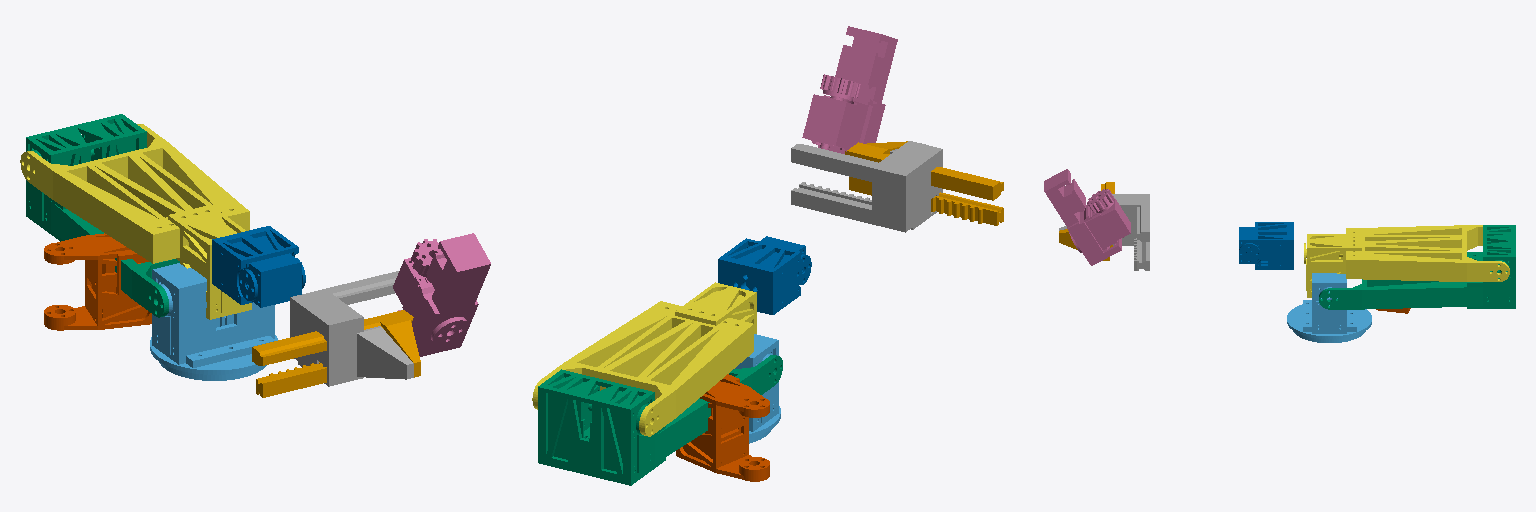
robot.urdf — markII.2:
<?xml version='1.0' encoding='utf-8'?>
<robot name="markII.2">
    <link name="base_link">
        <inertial>
            <origin xyz="0.035458480343119846 -6.348038499793762e-05 0.04884264658749845" rpy="0.0 0.0 0.0" />
            <mass value="0.39602545916549503" />
            <inertia ixx="0.0008760560529699657" iyy="0.0006208810412874053" izz="0.0008639242629666616" ixy="-3.769413947208682e-08" iyz="4.586236426702315e-07" ixz="3.627291135214919e-05" />
        </inertial>
        <visual name="base_link_visual">
            <origin xyz="0.0 0.0 0.0" rpy="0.0 0.0 0.0" />
            <geometry>
                <mesh filename="meshes/base_link.stl" scale="0.001 0.001 0.001" />
            </geometry>
        </visual>
        <collision name="base_link_collision">
            <origin xyz="0.0 0.0 0.0" rpy="0.0 0.0 0.0" />
            <geometry>
                <mesh filename="meshes/base_link.stl" scale="0.001 0.001 0.001" />
            </geometry>
        </collision>
    </link>
    <link name="link1">
        <inertial>
            <origin xyz="-0.0002704347594735834 5.857332049775781e-07 -0.018858068132557672" rpy="0.0 -0.0 0.0" />
            <mass value="0.1693636602695217" />
            <inertia ixx="9.137448780848672e-05" iyy="0.0001313693617072285" izz="9.559017464710466e-05" ixy="2.720487576872225e-09" iyz="-1.3245744038131203e-09" ixz="-4.5903464359968467e-07" />
        </inertial>
        <visual name="link1_visual">
            <origin xyz="9.999929548684338e-05 0.03250000019207488 0.09200000000000054" rpy="-3.1415926535897687 -7.208216521456998e-29 -1.5707963267948966" />
            <geometry>
                <mesh filename="meshes/link1.stl" scale="0.001 0.001 0.001" />
            </geometry>
        </visual>
        <collision name="link1_collision">
            <origin xyz="9.999929548684338e-05 0.03250000019207488 0.09200000000000054" rpy="-3.1415926535897687 -7.208216521456998e-29 -1.5707963267948966" />
            <geometry>
                <mesh filename="meshes/link1.stl" scale="0.001 0.001 0.001" />
            </geometry>
        </collision>
    </link>
    <link name="link2">
        <inertial>
            <origin xyz="0.03760000011651115 0.0059319951687325555 -0.11925732977137538" rpy="7.88860905221012e-31 3.421138828918011e-49 -2.430865342914509e-63" />
            <mass value="1.7169294249777958" />
            <inertia ixx="0.0038562699005716536" iyy="0.0045067967357157665" izz="0.001231930246496139" ixy="1.5872719391665013e-16" iyz="0.00039574878190694356" ixz="7.6805583598243e-10" />
        </inertial>
        <visual name="link2_visual">
            <origin xyz="0.055865511020663394 -0.05559347310728084 0.17090147772739467" rpy="-3.1415926535897745 4.634311136164061e-15 -1.5707963267949183" />
            <geometry>
                <mesh filename="meshes/link2.stl" scale="0.001 0.001 0.001" />
            </geometry>
        </visual>
        <collision name="link2_collision">
            <origin xyz="0.055865511020663394 -0.05559347310728084 0.17090147772739467" rpy="-3.1415926535897745 4.634311136164061e-15 -1.5707963267949183" />
            <geometry>
                <mesh filename="meshes/link2.stl" scale="0.001 0.001 0.001" />
            </geometry>
        </collision>
    </link>
    <link name="link3">
        <inertial>
            <origin xyz="0.03760663634504249 -0.0067660939590704315 -0.1156116487266119" rpy="-8.758115402030109e-47 -0.0 0.0" />
            <mass value="1.4797144091482912" />
            <inertia ixx="0.0038309475265955314" iyy="0.004170136098854015" izz="0.0009512994358775587" ixy="1.5677658128827873e-07" iyz="-0.00047433748121382917" ixz="2.834555275750896e-07" />
        </inertial>
        <visual name="link3_visual">
            <origin xyz="0.01933448921196167 0.05559347362881816 0.1709014775759369" rpy="3.1415926535897922 4.708572433932446e-16 1.5707963267949163" />
            <geometry>
                <mesh filename="meshes/link3.stl" scale="0.001 0.001 0.001" />
            </geometry>
        </visual>
        <collision name="link3_collision">
            <origin xyz="0.01933448921196167 0.05559347362881816 0.1709014775759369" rpy="3.1415926535897922 4.708572433932446e-16 1.5707963267949163" />
            <geometry>
                <mesh filename="meshes/link3.stl" scale="0.001 0.001 0.001" />
            </geometry>
        </collision>
    </link>
    <link name="link4">
        <inertial>
            <origin xyz="-0.0006856444864441169 -0.025856823701627906 -2.6584211688884806e-07" rpy="0.0 -0.0 0.0" />
            <mass value="0.39283773638319275" />
            <inertia ixx="0.00010941578075797723" iyy="7.347508926037853e-05" izz="0.0001325327378877909" ixy="-1.7442449312230109e-06" iyz="-7.706476429498124e-11" ixz="1.5926628388861376e-09" />
        </inertial>
        <visual name="link4_visual">
            <origin xyz="-0.014999999876619503 -0.07860000031563046 0.03729999895692" rpy="-1.5707963267949088 1.5707963267948775 0" />
            <geometry>
                <mesh filename="meshes/link4.stl" scale="0.001 0.001 0.001" />
            </geometry>
        </visual>
        <collision name="link4_collision">
            <origin xyz="-0.014999999876619503 -0.07860000031563046 0.03729999895692" rpy="-1.5707963267949088 1.5707963267948775 0" />
            <geometry>
                <mesh filename="meshes/link4.stl" scale="0.001 0.001 0.001" />
            </geometry>
        </collision>
    </link>
    <link name="link5">
        <inertial>
            <origin xyz="-0.01204269022263127 4.2064875323539755e-05 0.039175653835811335" rpy="0.0 -0.0 0.0" />
            <mass value="0.608125068740914" />
            <inertia ixx="0.00021837053677050897" iyy="0.0003469179926686751" izz="0.00024081655085987988" ixy="-7.322055258983418e-09" iyz="-6.787604473096183e-08" ixz="9.749665809387996e-06" />
        </inertial>
        <visual name="link5_visual">
            <origin xyz="-0.056699999876626564 -0.03725478487650168 -0.06389999968436498" rpy="7.746581154322007e-14 -4.565358189137846e-16 1.5707963267948781" />
            <geometry>
                <mesh filename="meshes/link5.stl" scale="0.001 0.001 0.001" />
            </geometry>
        </visual>
        <collision name="link5_collision">
            <origin xyz="-0.056699999876626564 -0.03725478487650168 -0.06389999968436498" rpy="7.746581154322007e-14 -4.565358189137846e-16 1.5707963267948781" />
            <geometry>
                <mesh filename="meshes/link5.stl" scale="0.001 0.001 0.001" />
            </geometry>
        </collision>
    </link>
    <link name="link6">
        <inertial>
            <origin xyz="0.0006080068808218275 -0.024943614181073548 0.0228980159158138" rpy="0.0 -0.0 0.0" />
            <mass value="0.4063892862705231" />
            <inertia ixx="0.0009949238078908428" iyy="0.0009620882125333137" izz="0.0001293739180438374" ixy="-6.205679234966456e-07" iyz="-8.383963299279892e-05" ixz="-1.1902565677070848e-06" />
        </inertial>
        <visual name="link6_visual">
            <origin xyz="0.0006500001233803765 -0.033158311578043026 0.07161508819313206" rpy="2.0943950946213787 2.3888183975531057e-14 -2.029786426337192e-14" />
            <geometry>
                <mesh filename="meshes/link6.stl" scale="0.001 0.001 0.001" />
            </geometry>
        </visual>
        <collision name="link6_collision">
            <origin xyz="0.0006500001233803765 -0.033158311578043026 0.07161508819313206" rpy="2.0943950946213787 2.3888183975531057e-14 -2.029786426337192e-14" />
            <geometry>
                <mesh filename="meshes/link6.stl" scale="0.001 0.001 0.001" />
            </geometry>
        </collision>
    </link>
    <link name="link7">
        <inertial>
            <origin xyz="-0.0013815558616599333 0.02387604371038002 -0.0013645395640511505" rpy="7.888609052210118e-31 7.888609052210118e-31 0.0" />
            <mass value="0.48075191159387803" />
            <inertia ixx="0.0003033448421816805" iyy="0.00033681236170874805" izz="0.00026092351890204246" ixy="6.005328959815351e-05" iyz="-2.1428284812280153e-05" ixz="3.5039219716827687e-05" />
        </inertial>
        <visual name="link7_visual">
            <origin xyz="0.029158762475574633 0.018856031219078046 -0.0017643185282382491" rpy="-0.5235987678264844 -1.5707963267948672 0" />
            <geometry>
                <mesh filename="meshes/link7.stl" scale="0.001 0.001 0.001" />
            </geometry>
        </visual>
        <collision name="link7_collision">
            <origin xyz="0.029158762475574633 0.018856031219078046 -0.0017643185282382491" rpy="-0.5235987678264844 -1.5707963267948672 0" />
            <geometry>
                <mesh filename="meshes/link7.stl" scale="0.001 0.001 0.001" />
            </geometry>
        </collision>
    </link>
    <link name="link8">
        <inertial>
            <origin xyz="0.036071437879573356 -0.018378160326630137 -0.030699742058770334" rpy="3.944304526105059e-31 7.888609052210118e-31 -5.551115123125783e-17" />
            <mass value="0.2562251290131406" />
            <inertia ixx="0.0002752824898012283" iyy="0.00027735385179900507" izz="5.203384545490046e-05" ixy="6.10910164021597e-06" iyz="3.245760471981715e-05" ixz="-2.4171379035778654e-05" />
        </inertial>
        <visual name="link8_visual">
            <origin xyz="0.040455652057477066 -0.009090003514222431 -0.03906864449898206" rpy="-2.094395094621378 1.5707963267948704 0" />
            <geometry>
                <mesh filename="meshes/link8.stl" scale="0.001 0.001 0.001" />
            </geometry>
        </visual>
        <collision name="link8_collision">
            <origin xyz="0.040455652057477066 -0.009090003514222431 -0.03906864449898206" rpy="-2.094395094621378 1.5707963267948704 0" />
            <geometry>
                <mesh filename="meshes/link8.stl" scale="0.001 0.001 0.001" />
            </geometry>
        </collision>
    </link>
    <joint name="base_link_Revolute-1" type="continuous">
        <origin xyz="0.0325 -0.0001 0.092" rpy="3.1415926535897927 -0.0 0.0" />
        <parent link="base_link" />
        <child link="link1" />
        <axis xyz="0.0 -5.319298016155975e-16 1.0" />
    </joint>
    <joint name="link1_Revolute-3" type="revolute">
        <origin xyz="-0.038 2.1909557501587075e-17 -0.04120000000000001" rpy="-1.5707963267949014 -1.3759121115959062e-48 2.5866422738807517e-33" />
        <parent link="link1" />
        <child link="link2" />
        <axis xyz="0.9999999999999999 -9.86076131526265e-32 -2.91433543964095e-15" />
        <limit lower="-0.349066" upper="3.490659" effort="1000000" velocity="1000000" />
    </joint>
    <joint name="link2_Revolute-4" type="revolute">
        <origin xyz="-4.6074255521944e-16 0.028200000000000856 -0.15829999999999986" rpy="-3.141592653589788 -6.3083005994942144e-30 -3.3964013748145005e-44" />
        <parent link="link2" />
        <child link="link3" />
        <axis xyz="-0.9999999999999999 -9.860761315262648e-32 -3.1554436208840472e-30" />
        <limit lower="0.0" upper="3.403392" effort="1000000" velocity="1000000" />
    </joint>
    <joint name="link3_Revolute-5" type="continuous">
        <origin xyz="0.0376 -0.008000000000000007 -0.18960000000000002" rpy="1.5707963267948966 -6.310887241768096e-30 -3.971572354158615e-60" />
        <parent link="link3" />
        <child link="link4" />
        <axis xyz="0.0 -1.0 -3.6755994903979264e-17" />
    </joint>
    <joint name="link4_Revolute-6" type="revolute">
        <origin xyz="0.0171 -0.04360000000000001 0.0" rpy="1.5707963267948966 1.1598146964900797e-46 -3.1554436208840472e-30" />
        <parent link="link4" />
        <child link="link5" />
        <axis xyz="1.0 0.0 1.6307655579902438e-16" />
        <limit lower="-1.658063" upper="1.658063" effort="1000000" velocity="1000000" />
    </joint>
    <joint name="link5_Revolute-7" type="continuous">
        <origin xyz="-0.021700000000000014 4.521999999994364e-05 0.0706" rpy="-1.570796326794897 3.1554436208840472e-30 4.598010586065825e-46" />
        <parent link="link5" />
        <child link="link6" />
        <axis xyz="0.0 -1.0 -4.3859902218644406e-16" />
    </joint>
    <joint name="link6_Slider-8" type="prismatic">
        <origin xyz="-0.012099999999999944 -0.034000140000000005 0.03283129000000003" rpy="-1.5707963267948966 0.5235987755983036 1.5707963267949092" />
        <parent link="link6" />
        <child link="link7" />
        <axis xyz="1.0040277787914188e-14 1.3663471679475653e-30 0.9999999999999999" />
        <limit lower="0.0" upper="0.045" effort="1000000" velocity="1000000" />
    </joint>
    <joint name="link6_Slider-9" type="prismatic">
        <origin xyz="0.015700000000000058 -0.034000140000000005 0.03283129000000003" rpy="-1.5707963267948966 1.0471975511965943 -1.5707963267949128" />
        <parent link="link6" />
        <child link="link8" />
        <axis xyz="-6.540341824007072e-15 -7.88860905221017e-31 0.9999999999999999" />
        <limit lower="0.0" upper="0.045" effort="1000000" velocity="1000000" />
    </joint>
</robot>

--- Facts derived from the render (not from the file) ---
Views: 3 orthographic renders of the robot side by side, from view 1: azimuth 30°, elevation 25°; view 2: azimuth 150°, elevation 25°; view 3: azimuth 270°, elevation 25°.
Model markII.2 with 9 links and 8 joints (3 revolute, 3 continuous, 2 prismatic), rooted at base_link, posed all joints at 0.
Visible links, largest first — view 1: link3, link1, link7, link6, link2, link5, link4, link8; view 2: link3, link2, link7, link6, link5, link4, link8, link1; view 3: link3, link2, link6, link1, link4, link7.
Boxes of the visible links, left/top/right/bottom form: link3: left=20, top=124, right=251, bottom=319; link1: left=150, top=263, right=277, bottom=380; link7: left=290, top=271, right=413, bottom=386; link6: left=393, top=233, right=490, bottom=356; link2: left=26, top=114, right=179, bottom=317; link5: left=44, top=233, right=151, bottom=330; link4: left=212, top=226, right=305, bottom=307; link8: left=252, top=310, right=420, bottom=397; link3: left=532, top=282, right=756, bottom=436; link2: left=538, top=355, right=782, bottom=485; link7: left=791, top=141, right=942, bottom=232; link6: left=802, top=26, right=897, bottom=153; link5: left=676, top=374, right=769, bottom=481; link4: left=718, top=236, right=811, bottom=314; link8: left=845, top=141, right=1003, bottom=225; link1: left=733, top=334, right=780, bottom=443; link3: left=1304, top=225, right=1509, bottom=297; link2: left=1319, top=225, right=1515, bottom=309; link6: left=1044, top=169, right=1130, bottom=265; link1: left=1287, top=273, right=1371, bottom=342; link4: left=1239, top=222, right=1293, bottom=269; link7: left=1059, top=194, right=1149, bottom=270.
Size in the robot's own frame: 0.1368 by 0.4399 by 0.1806 metres.
8 mesh visuals loaded from 9 distinct referenced files (8 binary STL); not drawn: 1 (reference not matched to a file when rendering).